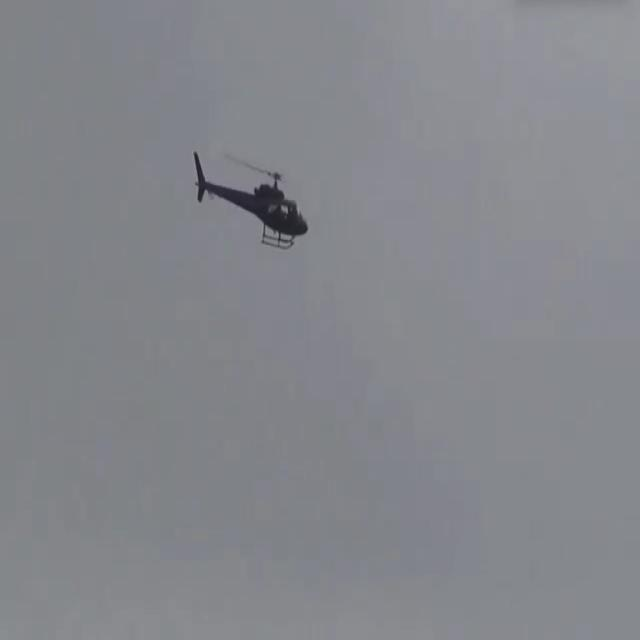Helicopter: (187, 143, 312, 260)
